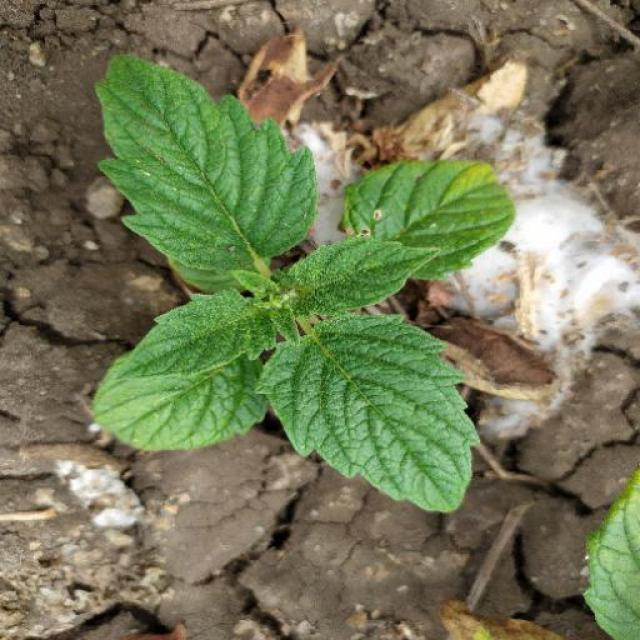crop: (90, 55, 520, 526)
